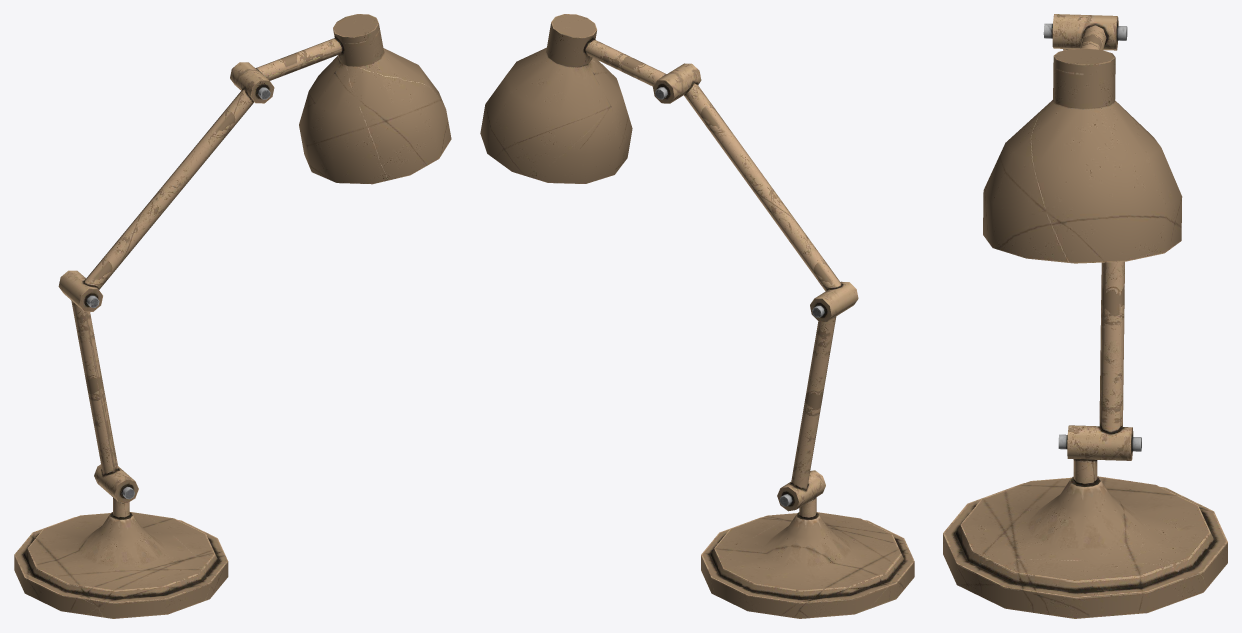
File: Lamp.glb
The picture shows the model from 3 angles, left to right: view 1: azimuth 30°, elevation 25°; view 2: azimuth 150°, elevation 25°; view 3: azimuth 270°, elevation 25°; orthographic projection. The views are drawn at different scales.
Visible parts, largest first — view 1: Lamp; view 2: Lamp; view 3: Lamp.
Boxes of the visible parts, bbox=[...] form: Lamp: bbox=[14, 14, 451, 618]; Lamp: bbox=[480, 14, 914, 618]; Lamp: bbox=[943, 14, 1227, 618].
Size of the model in its own units: 0.2889 by 0.3319 by 0.13.
Materials: 1 (1 with a texture image).
